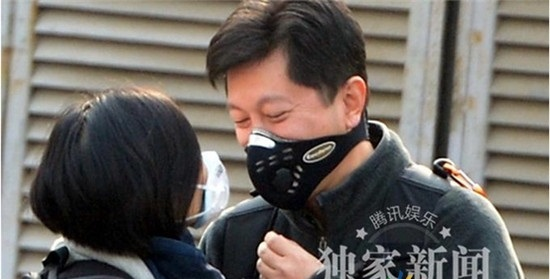face_mask: (231, 63, 334, 200)
